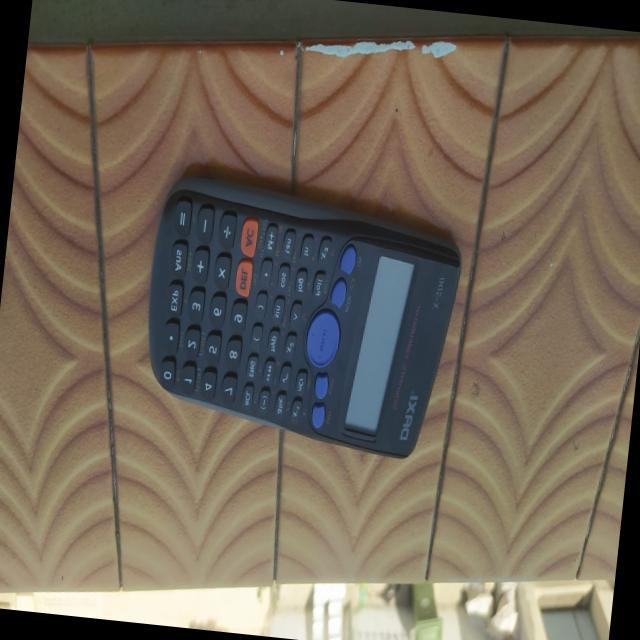Calculator: (136, 162, 471, 465)
